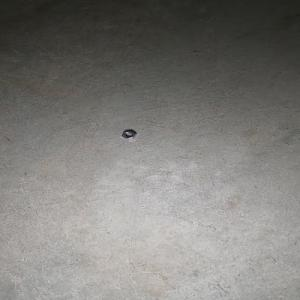Nut: (121, 130, 136, 139)
